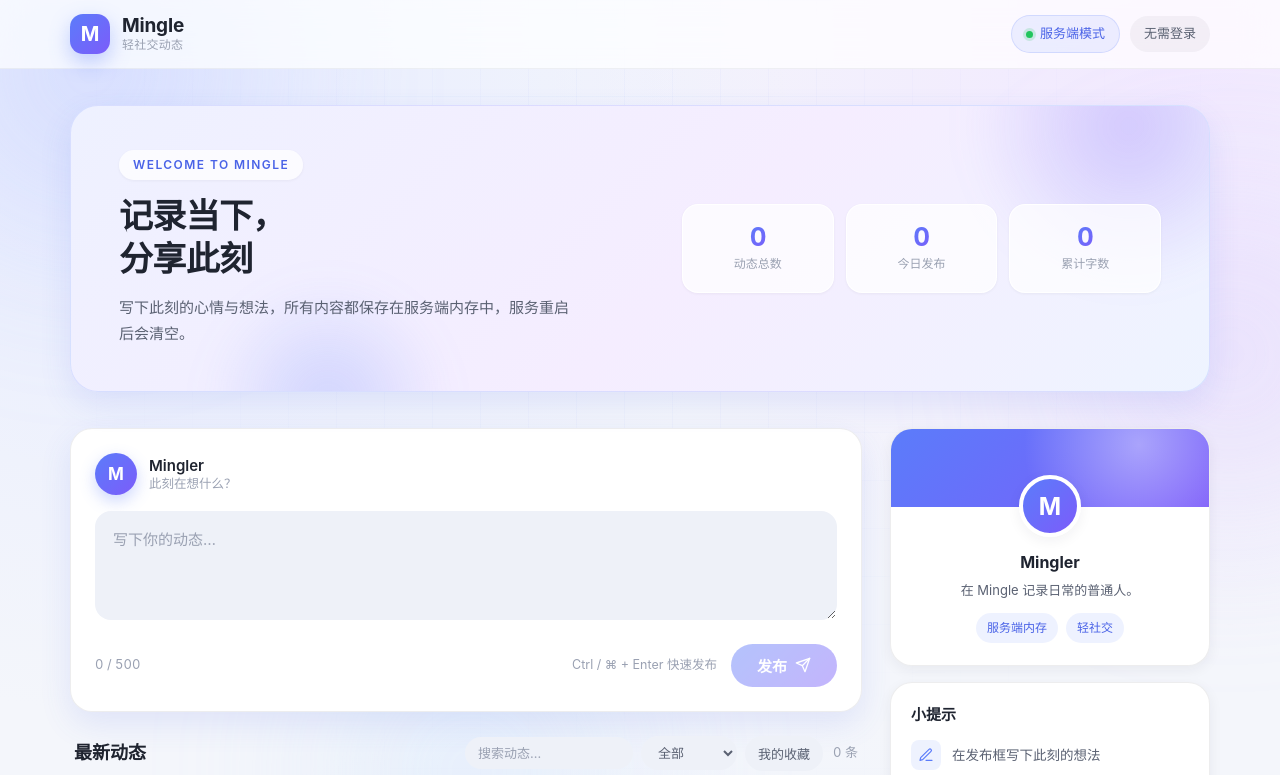
it: App › 两次点击删除后列表、条数与统计同步更新
Type "要删掉的动态" into the text box with placeholder "写下你的动态…" at (466, 566), box x1=95 y1=511 x2=837 y2=620
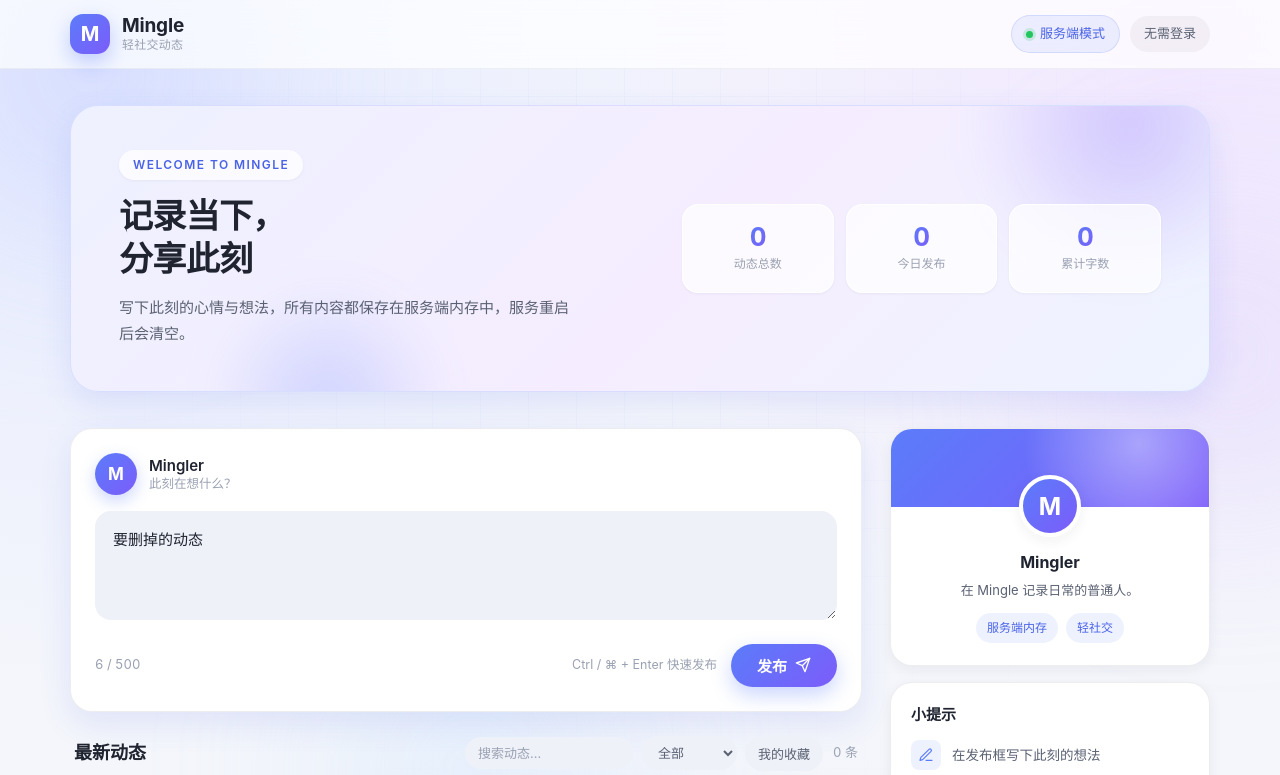
Click the button with class "composer__submit" at (784, 665), box x1=731 y1=644 x2=837 y2=687
(page scrolled)
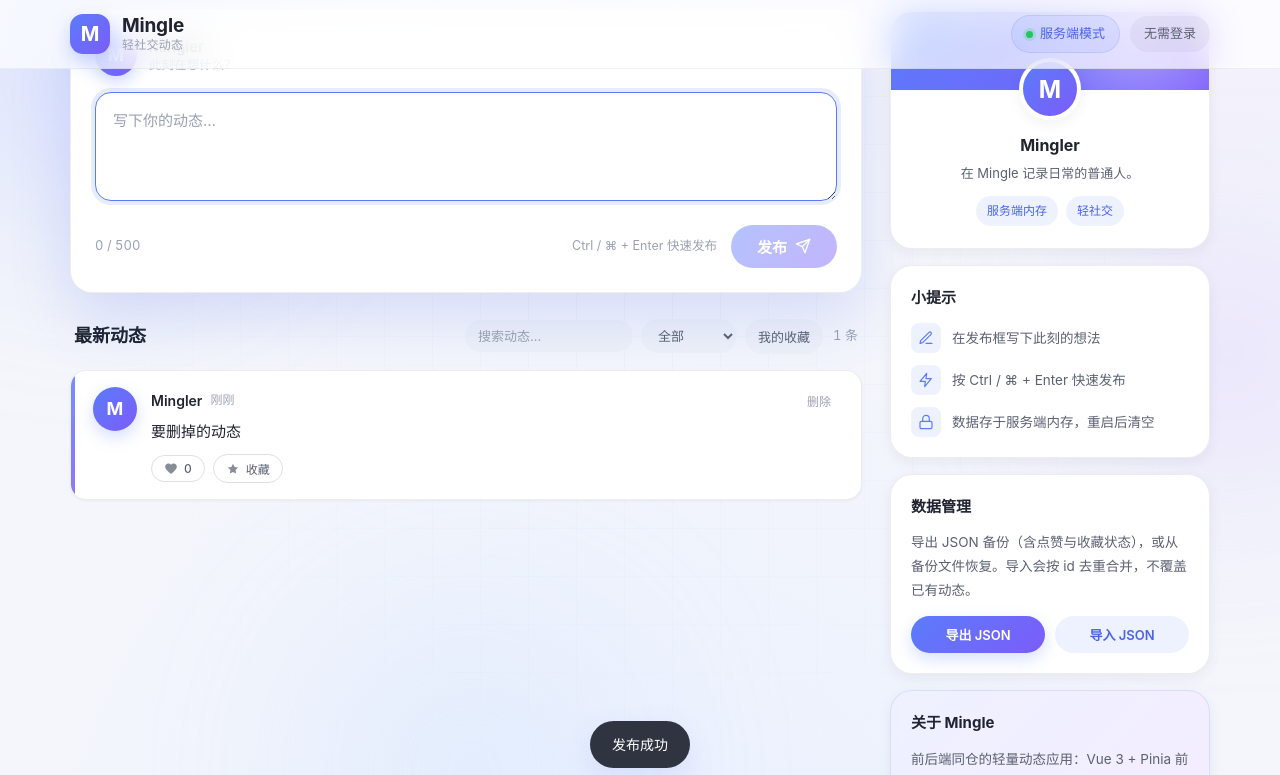
Click the button "删除" at (819, 400), box x1=795 y1=387 x2=843 y2=414
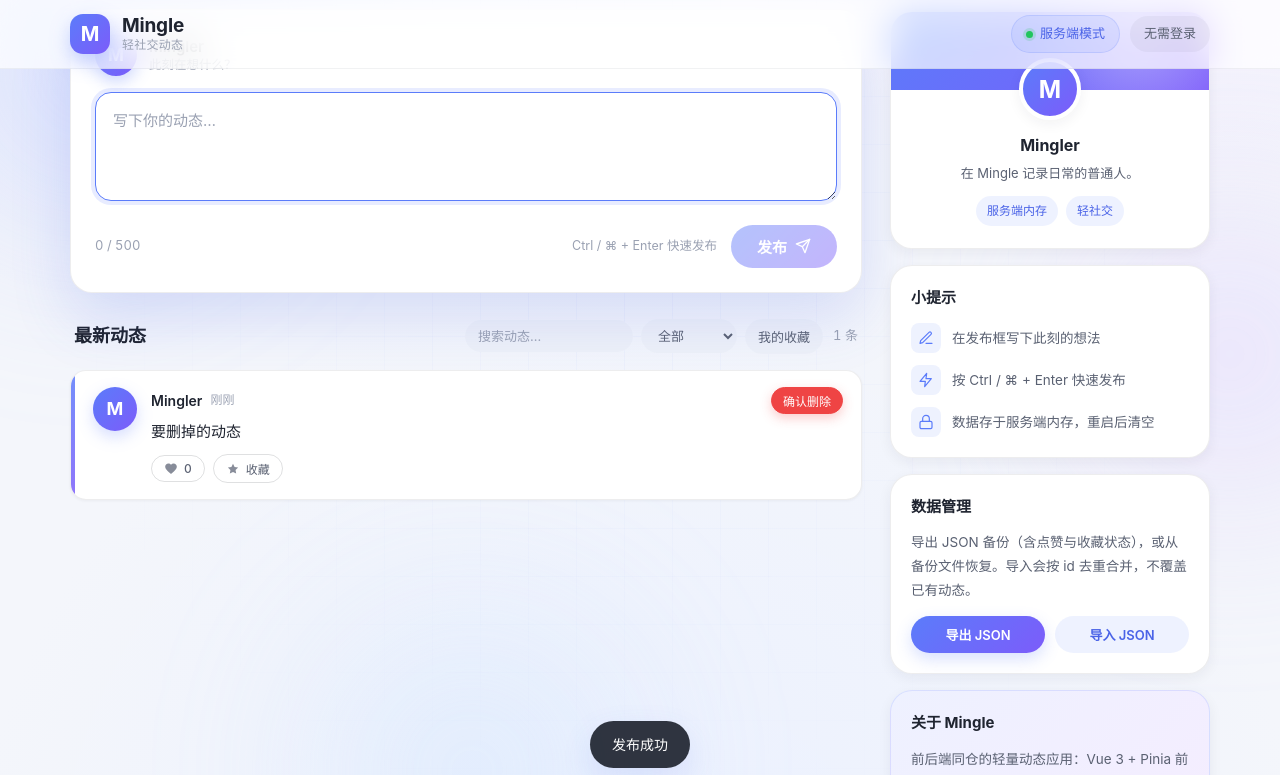
Expected: the button "确认删除" is shown
Click the button "确认删除" at (807, 400), box x1=771 y1=387 x2=843 y2=414
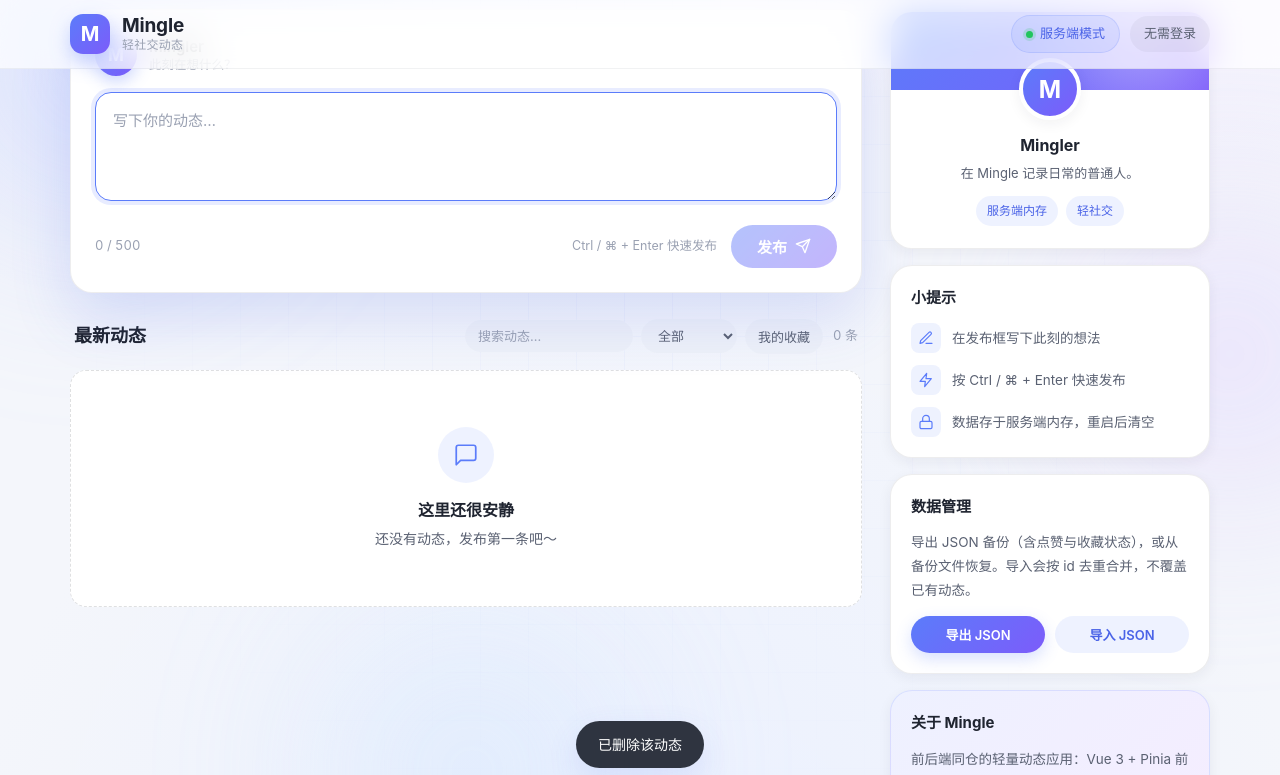
Expected: no list items are shown
Expected: the text with class "feed__count" reads "0 条", x1=833 y1=327 x2=858 y2=343
Expected: the message with class "toast" reads "已删除该动态", x1=598 y1=736 x2=682 y2=753
